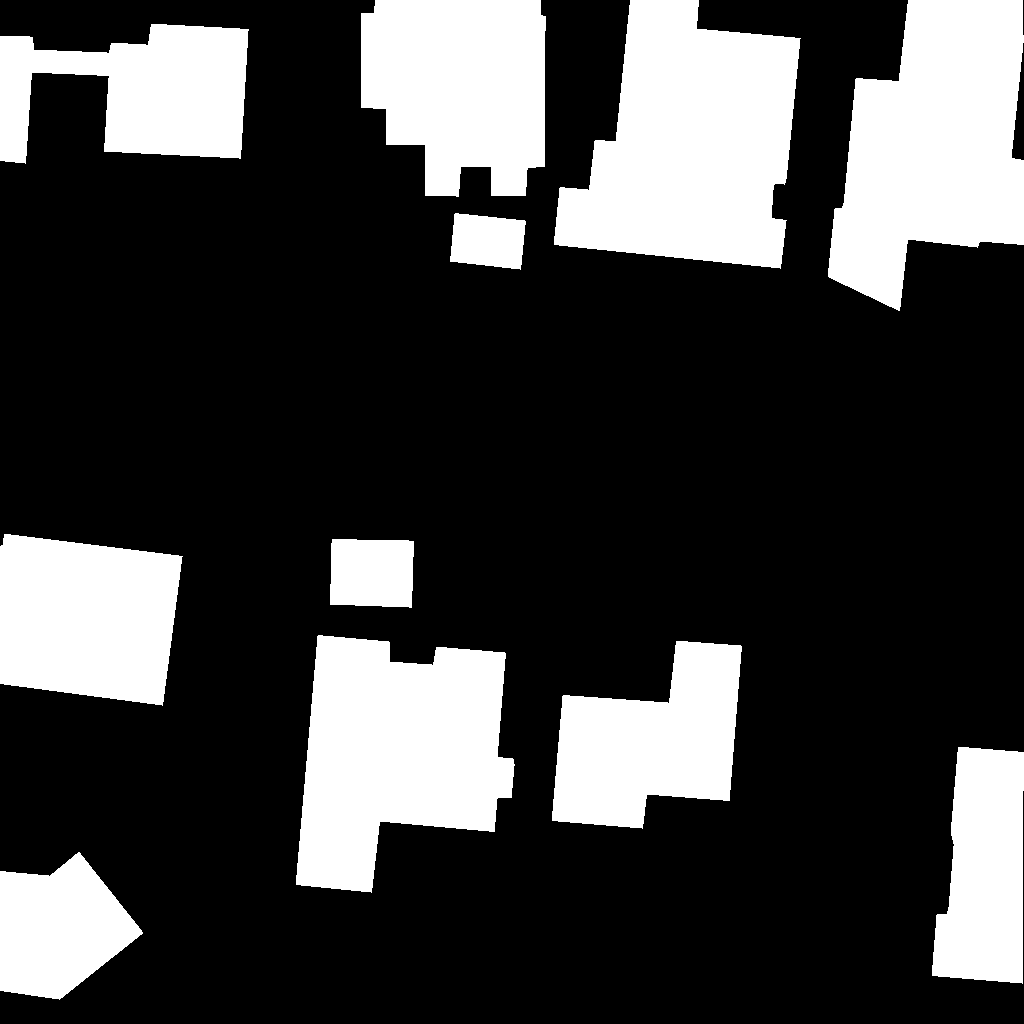building: (554, 0, 801, 269), (828, 0, 1024, 312), (296, 635, 515, 893), (361, 0, 546, 197), (552, 641, 743, 829), (0, 24, 249, 164), (0, 534, 183, 706), (932, 747, 1024, 984), (0, 852, 144, 1000), (330, 539, 415, 608), (450, 213, 527, 270)
